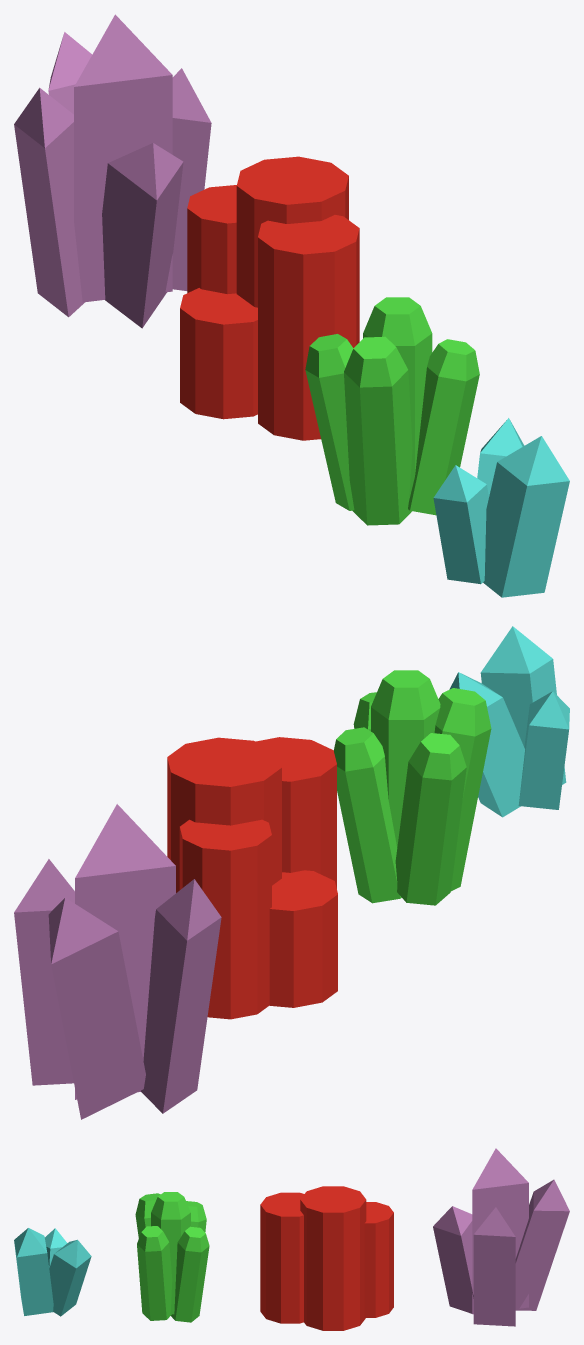
Rendered from crystalkit.fbx.
3 views of the same model, one above another, from view 1: azimuth 30°, elevation 25°; view 2: azimuth 150°, elevation 25°; view 3: azimuth 270°, elevation 25° (orthographic). The views are drawn at different scales.
Parts seen in each view (by area): view 1: Cylinder.010_5, Cylinder_12, Cylinder.002_14, Cylinder.015_10, Cylinder.004_16, Cylinder.006_1, Cylinder.011_6, Cylinder.008_3, Cylinder.014_9, Cylinder.009_4, Cylinder.013_8, Cylinder.005_0 (+4 smaller); view 2: Cylinder.001_13, Cylinder.009_4, Cylinder.004_16, Cylinder_12, Cylinder.008_3, Cylinder.013_8, Cylinder.011_6, Cylinder.016_11, Cylinder.003_15, Cylinder.010_5, Cylinder.012_7, Cylinder.015_10 (+3 smaller); view 3: Cylinder.008_3, Cylinder.010_5, Cylinder.003_15, Cylinder.001_13, Cylinder_12, Cylinder.009_4, Cylinder.002_14, Cylinder.014_9, Cylinder.016_11, Cylinder.006_1, Cylinder.007_2, Cylinder.012_7 (+3 smaller).
Part boxes in pixels (x1=…): Cylinder.010_5: x1=258, y1=215, x2=359, y2=440; Cylinder_12: x1=74, y1=14, x2=172, y2=302; Cylinder.002_14: x1=102, y1=143, x2=183, y2=328; Cylinder.015_10: x1=344, y1=336, x2=412, y2=525; Cylinder.004_16: x1=14, y1=87, x2=84, y2=317; Cylinder.006_1: x1=483, y1=436, x2=569, y2=597; Cylinder.011_6: x1=180, y1=288, x2=257, y2=419; Cylinder.008_3: x1=236, y1=156, x2=348, y2=307; Cylinder.014_9: x1=408, y1=339, x2=479, y2=515; Cylinder.009_4: x1=187, y1=185, x2=236, y2=294; Cylinder.013_8: x1=305, y1=334, x2=354, y2=510; Cylinder.005_0: x1=433, y1=465, x2=488, y2=584; Cylinder.001_13: x1=48, y1=897, x2=145, y2=1119; Cylinder.009_4: x1=179, y1=819, x2=271, y2=1019; Cylinder.004_16: x1=141, y1=879, x2=221, y2=1113; Cylinder_12: x1=75, y1=804, x2=175, y2=1099; Cylinder.008_3: x1=167, y1=737, x2=281, y2=892; Cylinder.013_8: x1=395, y1=733, x2=466, y2=905; Cylinder.011_6: x1=269, y1=870, x2=337, y2=1007; Cylinder.016_11: x1=333, y1=727, x2=401, y2=903; Cylinder.003_15: x1=14, y1=859, x2=74, y2=1085; Cylinder.010_5: x1=256, y1=737, x2=336, y2=888; Cylinder.012_7: x1=371, y1=670, x2=440, y2=847; Cylinder.015_10: x1=434, y1=688, x2=491, y2=891; Cylinder.008_3: x1=300, y1=1186, x2=366, y2=1330; Cylinder.010_5: x1=260, y1=1192, x2=304, y2=1323; Cylinder.003_15: x1=473, y1=1207, x2=515, y2=1326; Cylinder.001_13: x1=515, y1=1179, x2=569, y2=1310; Cylinder_12: x1=472, y1=1148, x2=528, y2=1314; Cylinder.009_4: x1=364, y1=1202, x2=393, y2=1317; Cylinder.002_14: x1=433, y1=1206, x2=473, y2=1313; Cylinder.014_9: x1=137, y1=1226, x2=172, y2=1320; Cylinder.016_11: x1=171, y1=1226, x2=209, y2=1322; Cylinder.006_1: x1=14, y1=1228, x2=53, y2=1315; Cylinder.007_2: x1=49, y1=1239, x2=91, y2=1316; Cylinder.012_7: x1=151, y1=1192, x2=190, y2=1314.
Bounding box in the file's own units: 117 × 191 × 580.
